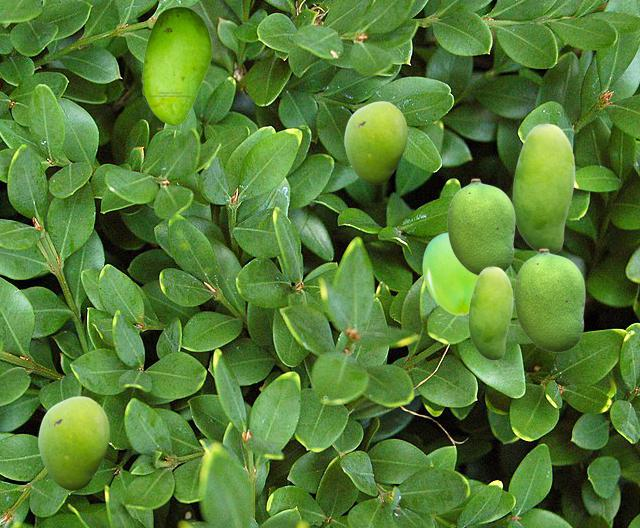green_mango: (141, 6, 211, 125), (512, 123, 574, 253), (514, 248, 584, 351), (38, 396, 108, 489), (447, 178, 514, 275), (344, 101, 406, 183), (422, 232, 476, 314), (468, 266, 512, 359)
